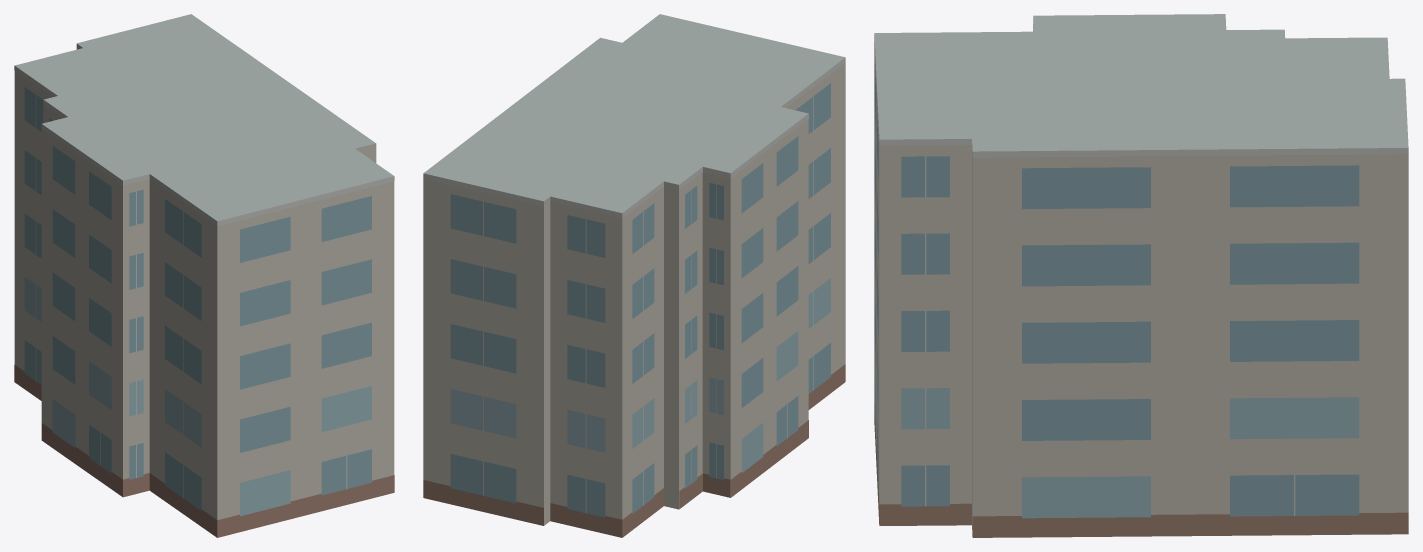
File: survey-upis-32923323.glb
3 views of the same model, side by side, from view 1: azimuth 30°, elevation 25°; view 2: azimuth 150°, elevation 25°; view 3: azimuth 270°, elevation 25° (orthographic). The views are drawn at different scales.
Visible parts, largest first — view 1: survey-upis-32923323.tmp; view 2: survey-upis-32923323.tmp; view 3: survey-upis-32923323.tmp.
Part boxes in pixels (x1=…): survey-upis-32923323.tmp: x1=14, y1=14, x2=394, y2=537; survey-upis-32923323.tmp: x1=423, y1=14, x2=845, y2=537; survey-upis-32923323.tmp: x1=874, y1=14, x2=1408, y2=537.
Size of the model in its own units: 11.65 by 15.25 by 19.12.
